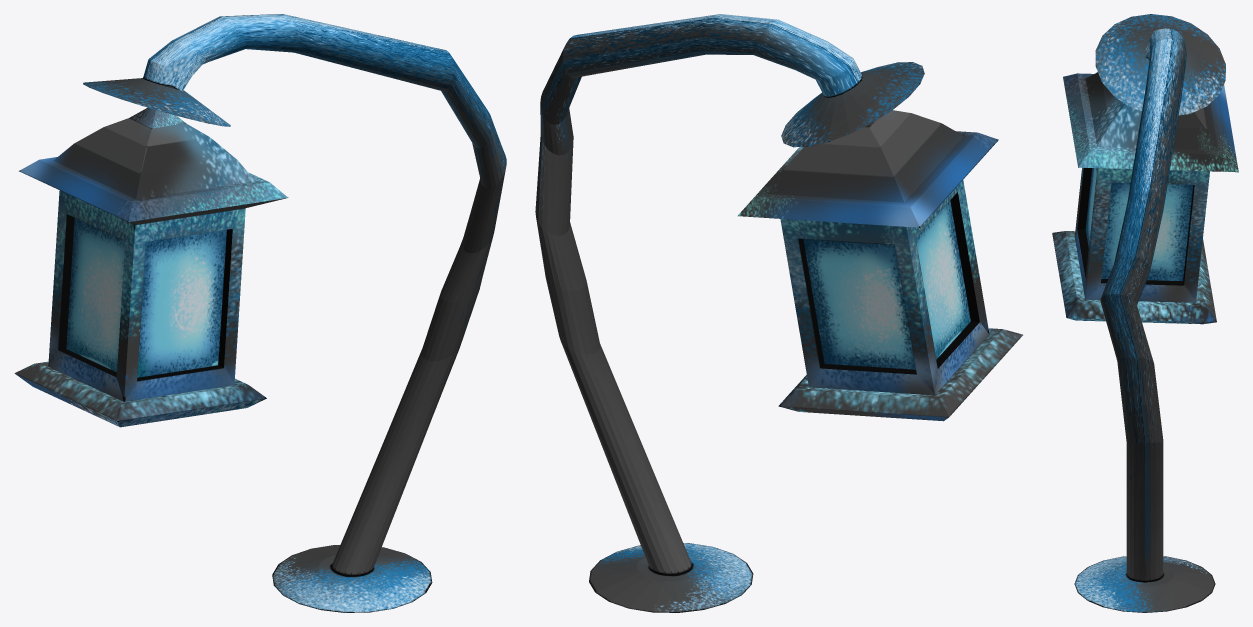
Rendered from smallLANTERN.fbx.
3 views of the same model, side by side, from view 1: azimuth 30°, elevation 25°; view 2: azimuth 150°, elevation 25°; view 3: azimuth 270°, elevation 25° (orthographic). The views are drawn at different scales.
Parts seen in each view (by area): view 1: polySurface9; view 2: polySurface9; view 3: polySurface9.
Boxes of the visible parts, x1,y1,x2,y2 form: polySurface9: (14,14,506,612); polySurface9: (535,14,1022,612); polySurface9: (1052,14,1238,612).
Size of the model in its own units: 1.9 by 2.38 by 0.8105.
3 materials, 3 textured.
